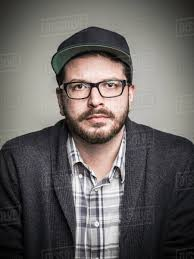Glasses: (54, 77, 131, 100)
